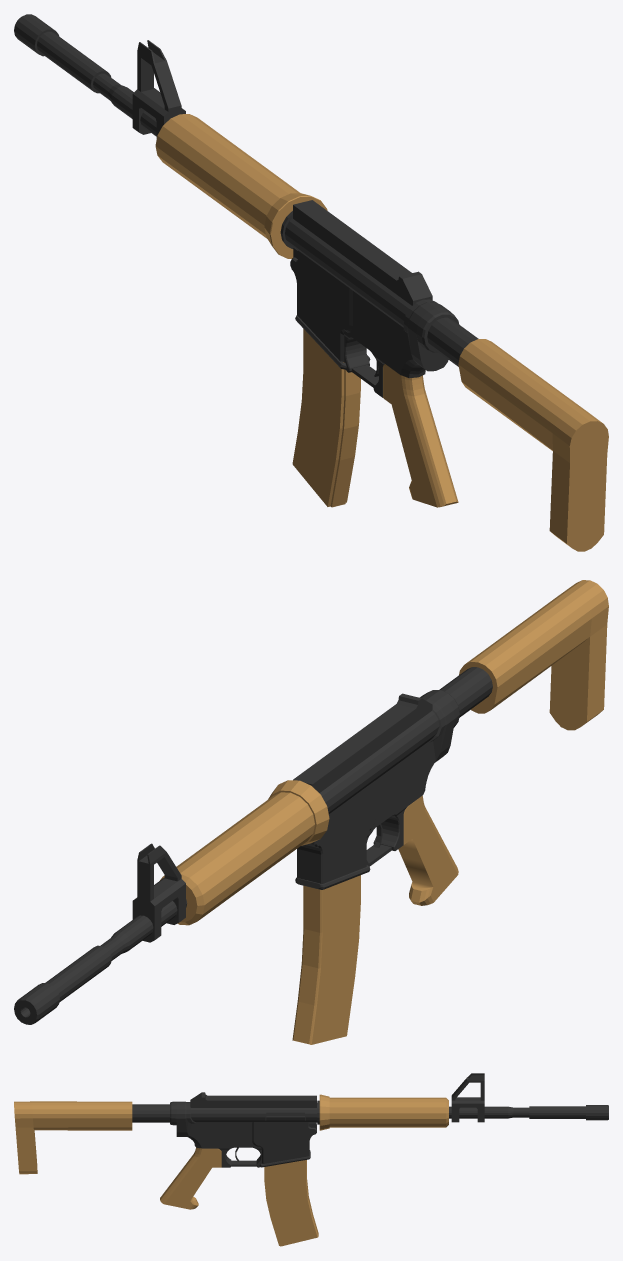
3 views of the same model, one above another, from view 1: azimuth 30°, elevation 25°; view 2: azimuth 150°, elevation 25°; view 3: azimuth 270°, elevation 25° (orthographic). The views are drawn at different scales.
Parts seen in each view (by area): view 1: body, magazine; view 2: body, magazine; view 3: body, magazine.
Part boxes in pixels (box(x1,y1,x2,y2)): body: box(14, 14, 608, 551); magazine: box(292, 329, 360, 507); body: box(14, 580, 608, 1024); magazine: box(292, 875, 360, 1044); body: box(14, 1073, 608, 1209); magazine: box(264, 1160, 318, 1246).
Bounding box in the file's own units: 67.68 × 349 × 1109.
